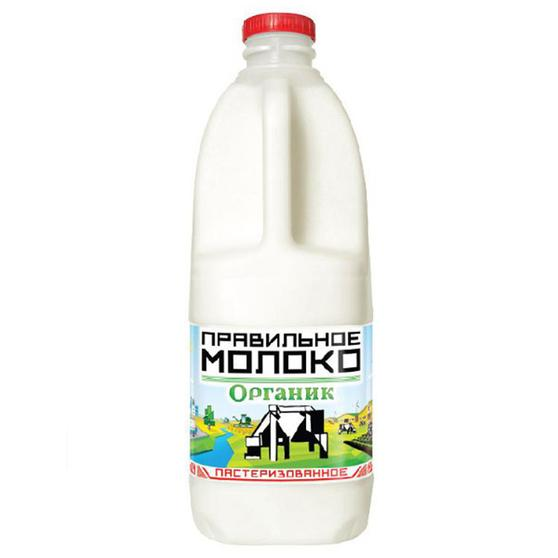milk: (184, 10, 377, 548)
